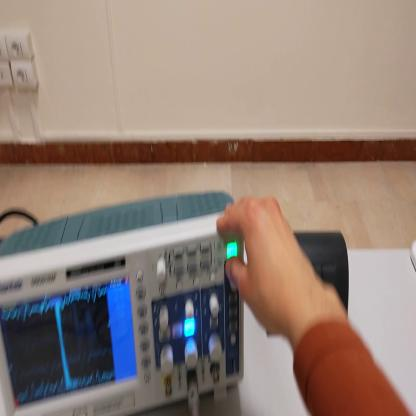hand: (217, 194, 315, 340)
oscilloscope: (1, 186, 245, 416)
